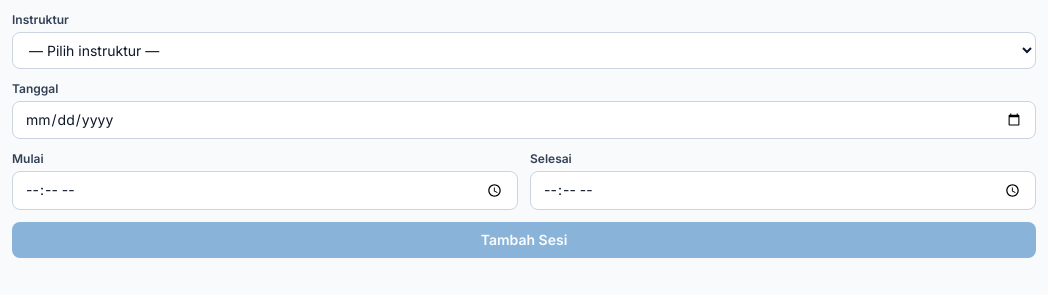
Scenario: TambahSesiForm › shows branch name hint after selecting an instructor
This screenshot has width=1048, height=295.
Step 1. Select "Pak Slamet Riyadi" in the dropdown labelled "Instruktur" → (524, 50), box [12,32,1036,69]
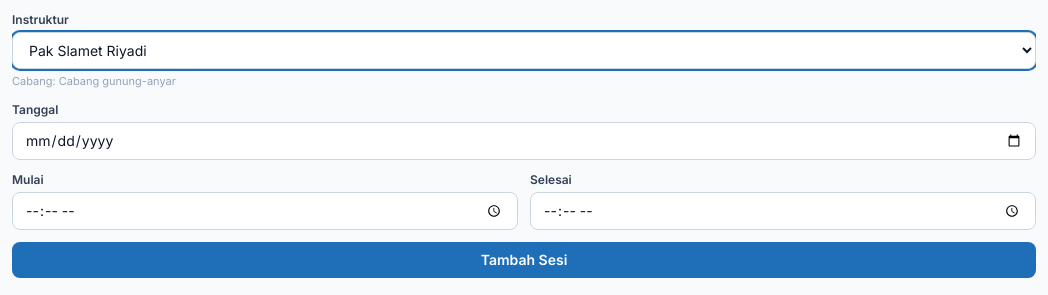
Expected: the text "Cabang: Cabang gunung-anyar" is shown, [12,74,176,88]
